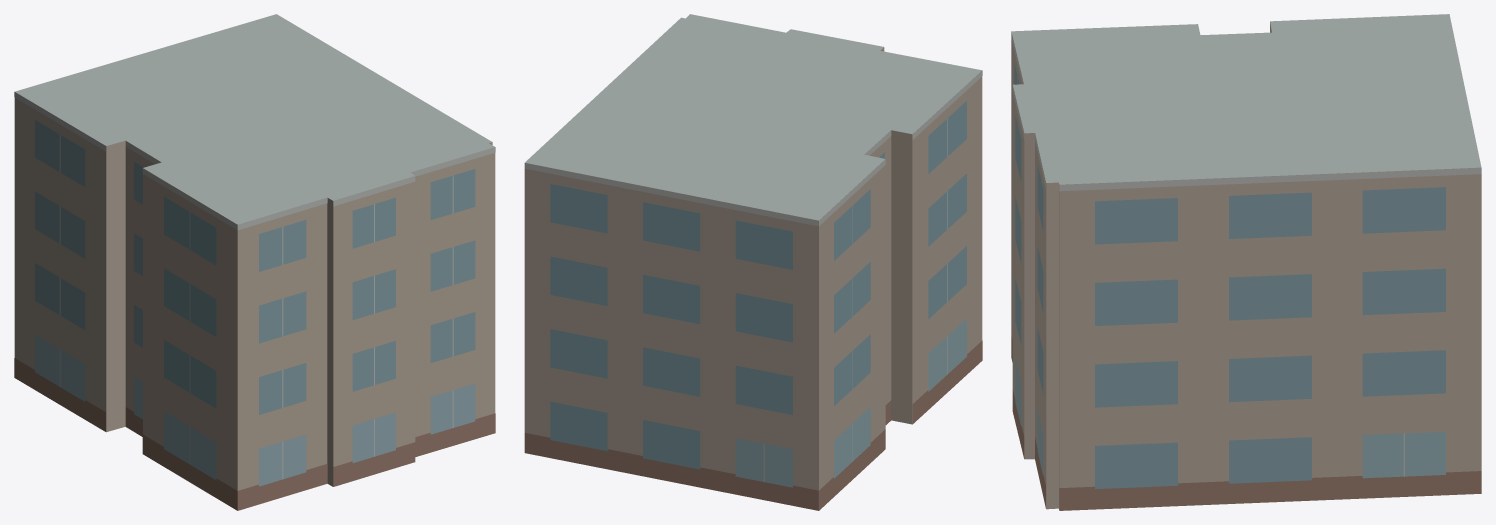
Rendered from survey-upis-32663591.glb.
The picture shows the model from 3 angles, left to right: view 1: azimuth 30°, elevation 25°; view 2: azimuth 150°, elevation 25°; view 3: azimuth 270°, elevation 25°; orthographic projection. The views are drawn at different scales.
Parts seen in each view (by area): view 1: survey-upis-32663591.tmp; view 2: survey-upis-32663591.tmp; view 3: survey-upis-32663591.tmp.
Boxes of the visible parts, box(x1,y1,x2,y2) form: survey-upis-32663591.tmp: box(14, 14, 495, 510); survey-upis-32663591.tmp: box(524, 14, 982, 510); survey-upis-32663591.tmp: box(1011, 14, 1481, 510).
Bounding box in the file's own units: 13.71 × 12.2 × 15.95.
